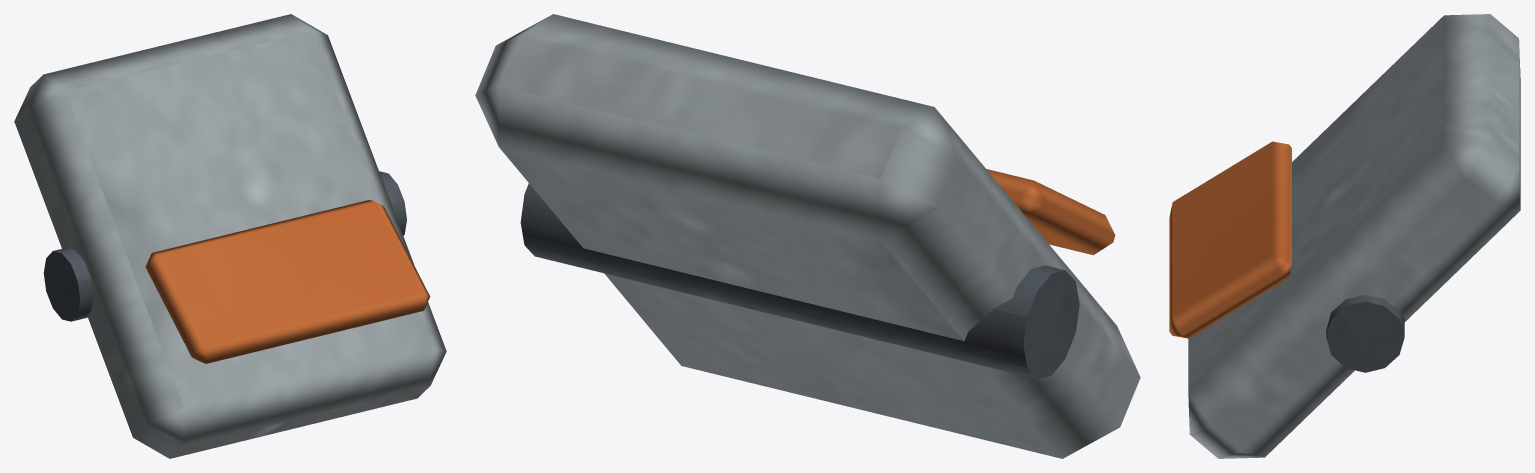
Rendered from prop_solar_film.fbx.
3 renders of one model, left to right at view 1: azimuth 30°, elevation 25°; view 2: azimuth 150°, elevation 25°; view 3: azimuth 270°, elevation 25°, orthographic. The views are drawn at different scales.
Parts seen in each view (by area): view 1: SM_prop_solar_film; view 2: SM_prop_solar_film; view 3: SM_prop_solar_film.
Part boxes in pixels (x1,y1,x2,y2): SM_prop_solar_film: (14, 14, 446, 458); SM_prop_solar_film: (475, 14, 1140, 458); SM_prop_solar_film: (1169, 14, 1520, 458).
Bounding box in the file's own units: 0.062 × 0.053 × 0.0536.
Materials: 3 (3 with a texture image).
